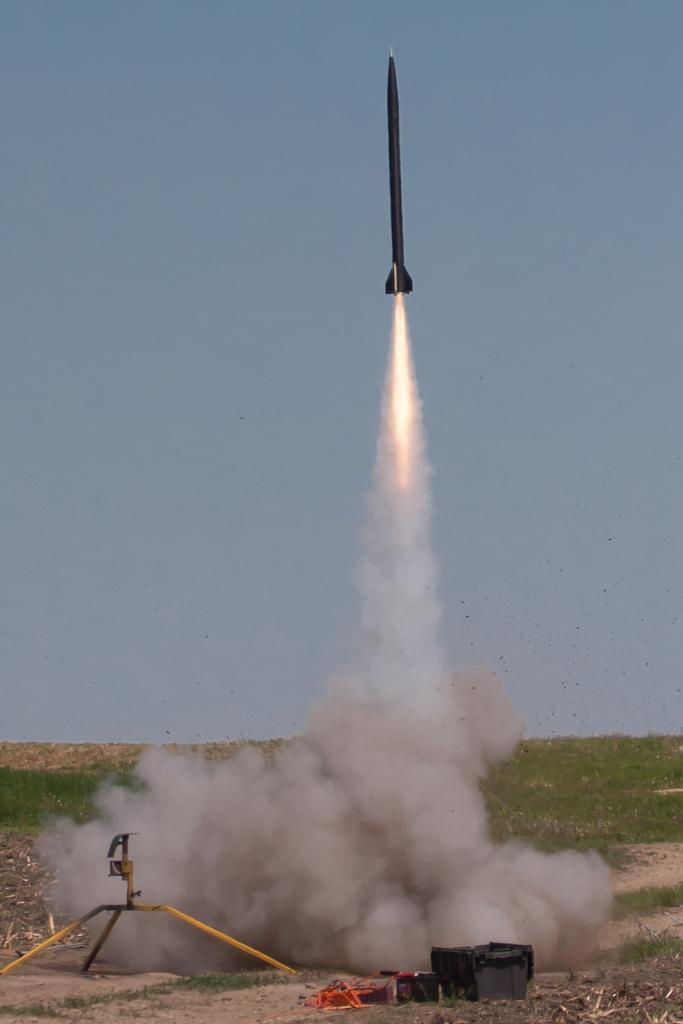Missile: (9, 52, 621, 999), (379, 38, 417, 301)
